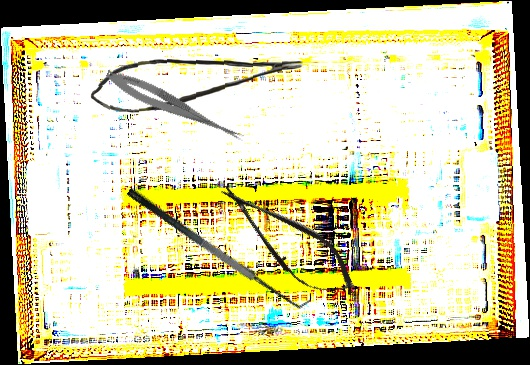Micro Scissor: (207, 168, 368, 314), (87, 52, 305, 117), (102, 65, 249, 146)
Spatula Surgical: (125, 172, 314, 320)
